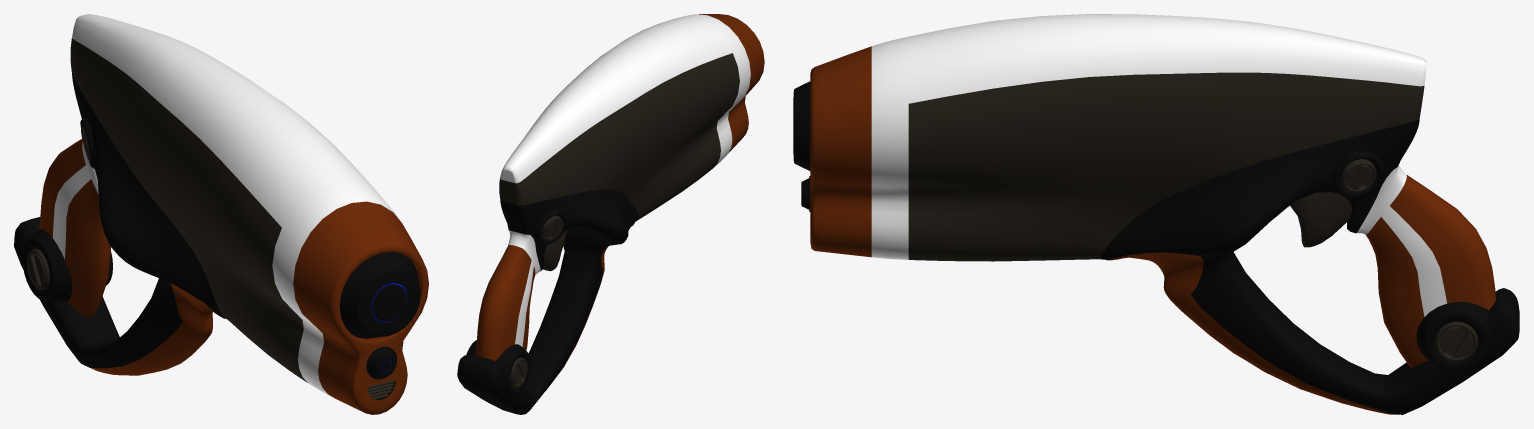
File: IntergalacticHerosLaserPistol.obj
The picture shows the model from 3 angles, left to right: view 1: azimuth 30°, elevation 25°; view 2: azimuth 150°, elevation 25°; view 3: azimuth 270°, elevation 25°; orthographic projection. The views are drawn at different scales.
Parts seen in each view (by area): view 1: gun_barrel gun, gun gun_handle, gun gun_muzzle_back gun_muzzle, gun screw_dw_rt screw_dw_rt_ring, gun gun_muzzle gun_muzzle_front, gun gun_sigth_back gun_sigth, gun screw_dw_rt_head screw_dw_rt, gun screw_dw_rt screw_dw_rt_hole; view 2: gun_barrel gun, gun gun_handle, gun screw_dw_rt screw_dw_rt_ring, gun gun_trigger, gun screw_up_rt screw_up_rt_ring; view 3: gun_barrel gun, gun gun_handle, gun screw_dw_lf screw_dw_lf_ring, gun gun_trigger, gun gun_muzzle_back gun_muzzle, gun screw_up_lf screw_up_lf_ring, gun screw_dw_lf screw_dw_lf_hole.
Boxes of the visible parts, box(x1,y1,x2,y2) form: gun_barrel gun: box(70, 14, 428, 414); gun gun_handle: box(14, 73, 226, 375); gun gun_muzzle_back gun_muzzle: box(339, 252, 420, 338); gun screw_dw_rt screw_dw_rt_ring: box(22, 229, 72, 301); gun gun_muzzle gun_muzzle_front: box(372, 284, 407, 321); gun gun_sigth_back gun_sigth: box(366, 346, 397, 379); gun screw_dw_rt_head screw_dw_rt: box(28, 253, 45, 286); gun screw_dw_rt screw_dw_rt_hole: box(26, 249, 49, 289); gun_barrel gun: box(499, 14, 764, 221); gun gun_handle: box(457, 189, 638, 414); gun screw_dw_rt screw_dw_rt_ring: box(495, 344, 530, 396); gun gun_trigger: box(543, 230, 567, 271); gun screw_up_rt screw_up_rt_ring: box(536, 209, 566, 244); gun_barrel gun: box(810, 14, 1426, 261); gun gun_handle: box(1100, 119, 1519, 414); gun screw_dw_lf screw_dw_lf_ring: box(1416, 302, 1490, 371); gun gun_trigger: box(1290, 192, 1351, 247); gun gun_muzzle_back gun_muzzle: box(793, 81, 810, 170); gun screw_up_lf screw_up_lf_ring: box(1333, 151, 1383, 197); gun screw_dw_lf screw_dw_lf_hole: box(1435, 321, 1478, 361).
Bounding box in the file's own units: 3.97 × 10.92 × 18.28.
